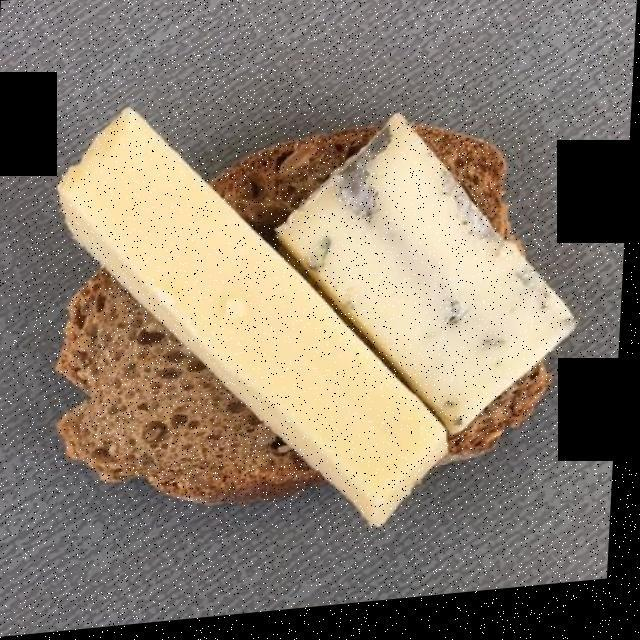bread: (39, 132, 552, 504)
cheese: (47, 113, 452, 539), (276, 114, 592, 449)
